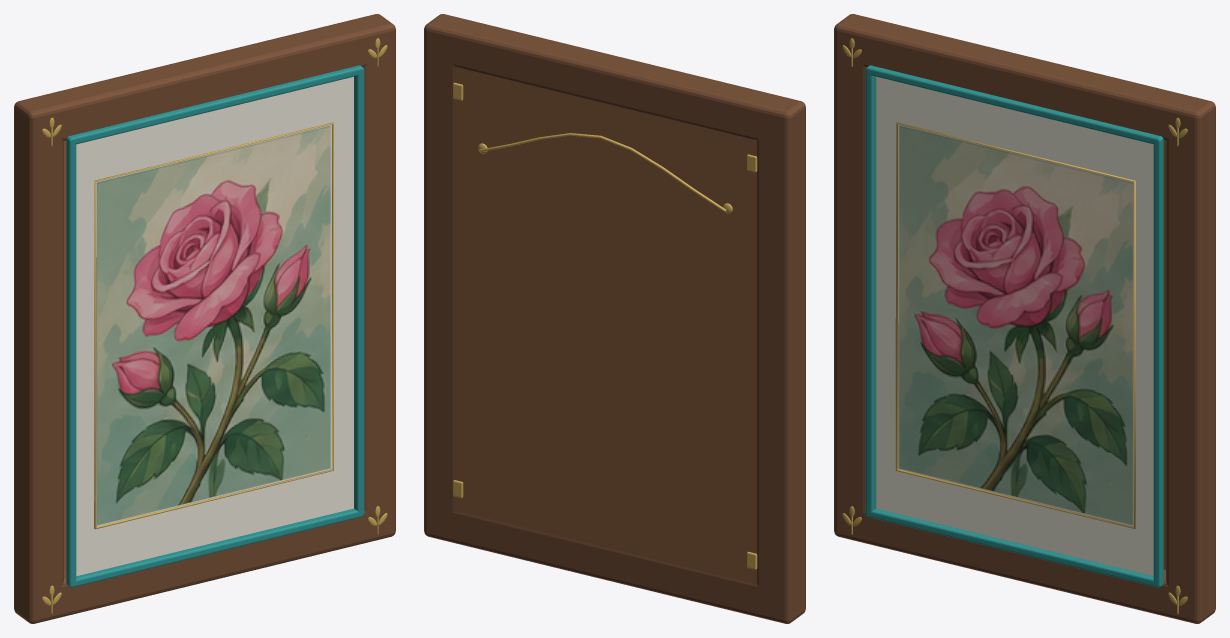
File: framed_botanical_rose.glb
The picture shows the model from 3 angles, left to right: view 1: azimuth 30°, elevation 25°; view 2: azimuth 150°, elevation 25°; view 3: azimuth 330°, elevation 25°; orthographic projection.
Visible parts, largest first — view 1: Flat_botanical_painting, Linen_mat, Stepped_frame_vertical, Stepped_frame_vertical.001, Stepped_frame_horizontal.001, Stepped_frame_horizontal, Inner_vertical_bead, Inner_vertical_bead.001, Inner_horizontal_bead, Inner_horizontal_bead.001, Fine_edge, Sealed_backboard; view 2: Sealed_backboard, Stepped_frame_vertical, Stepped_frame_vertical.001, Stepped_frame_horizontal.001, Stepped_frame_horizontal, Rear_hanging_wire; view 3: Flat_botanical_painting, Linen_mat, Stepped_frame_vertical.001, Stepped_frame_vertical, Stepped_frame_horizontal.001, Stepped_frame_horizontal, Inner_vertical_bead.001, Inner_vertical_bead, Fine_edge, Inner_horizontal_bead, Inner_horizontal_bead.001, Sealed_backboard.
Boxes of the visible parts, x1,y1,x2,y2 form: Flat_botanical_painting: (97, 125, 330, 525); Linen_mat: (76, 76, 353, 576); Stepped_frame_vertical: (14, 95, 63, 623); Stepped_frame_vertical.001: (351, 14, 395, 542); Stepped_frame_horizontal.001: (37, 20, 376, 140); Stepped_frame_horizontal: (50, 510, 377, 618); Inner_vertical_bead: (66, 137, 76, 586); Inner_vertical_bead.001: (354, 68, 364, 515); Inner_horizontal_bead: (70, 508, 363, 587); Inner_horizontal_bead.001: (67, 65, 363, 144); Fine_edge: (94, 122, 333, 529); Sealed_backboard: (64, 140, 66, 569); Sealed_backboard: (455, 67, 756, 583); Stepped_frame_vertical: (757, 95, 805, 623); Stepped_frame_vertical.001: (424, 14, 468, 542); Stepped_frame_horizontal.001: (442, 20, 775, 140); Stepped_frame_horizontal: (442, 510, 769, 619); Rear_hanging_wire: (478, 133, 726, 211); Flat_botanical_painting: (899, 125, 1132, 525); Linen_mat: (876, 76, 1153, 576); Stepped_frame_vertical.001: (1166, 95, 1215, 623); Stepped_frame_vertical: (834, 14, 878, 542); Stepped_frame_horizontal.001: (852, 20, 1185, 140); Stepped_frame_horizontal: (852, 510, 1179, 619); Inner_vertical_bead.001: (1153, 137, 1163, 586); Inner_vertical_bead: (865, 68, 875, 515); Fine_edge: (895, 122, 1135, 528); Inner_horizontal_bead: (866, 508, 1159, 587); Inner_horizontal_bead.001: (866, 65, 1162, 144); Sealed_backboard: (1163, 140, 1165, 569).
Bounding box in the file's own units: 0.6 × 0.8 × 0.077.
Materials: 7 (1 with a texture image).
